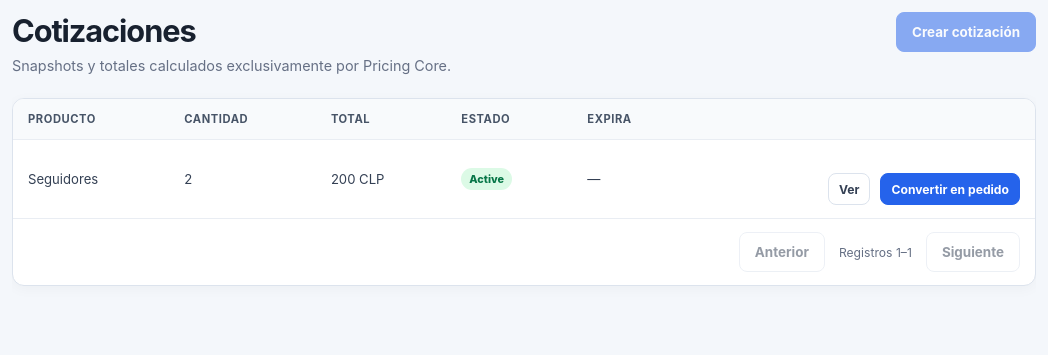
Test: shows the domain error when the quote can no longer be converted
Click the button "Convertir en pedido".
click(950, 189)  # box 880,173 -> 1020,205
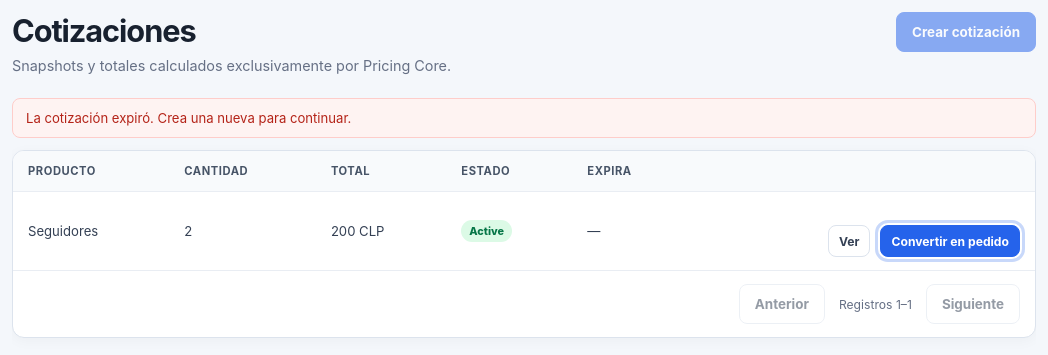
expect the text "La cotización expiró. Crea una nueva para continuar." is shown: met, box 12,98 -> 1036,138
